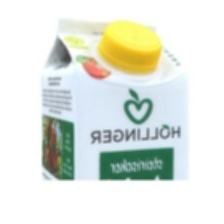carton: (39, 12, 191, 179)
